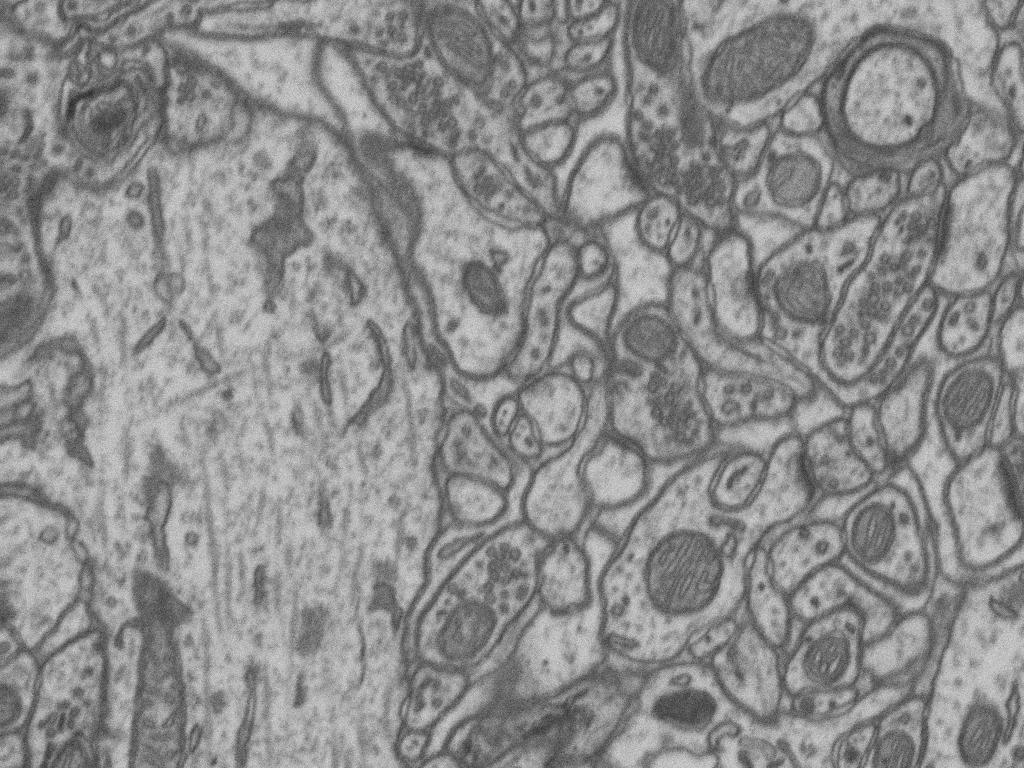mitochondria: (679, 19, 804, 135), (628, 523, 731, 636), (387, 0, 499, 79), (0, 249, 65, 383), (420, 606, 498, 691), (849, 489, 916, 568), (757, 143, 829, 216), (628, 319, 703, 385), (775, 265, 842, 337), (928, 376, 1001, 440), (205, 100, 273, 167), (792, 632, 859, 700), (712, 649, 779, 706), (48, 713, 115, 768), (441, 247, 501, 308), (872, 719, 940, 768), (952, 729, 1004, 768)
